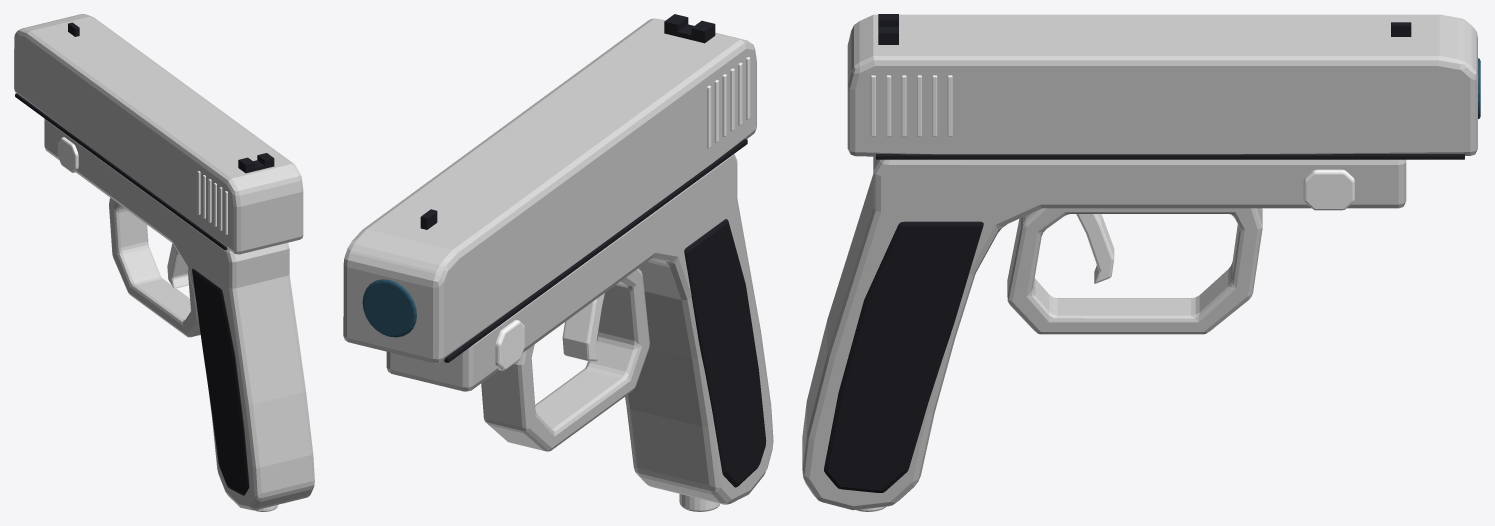
The model's file is funcon.glb.
The picture shows the model from 3 angles, left to right: view 1: azimuth 30°, elevation 25°; view 2: azimuth 150°, elevation 25°; view 3: azimuth 270°, elevation 25°; orthographic projection. The views are drawn at different scales.
Parts seen in each view (by area): view 1: barrel_shell_lod0, frame_lod0, grip_panel_left_lod0, trigger_guard_lod0, slide_seam_-1_lod0, trigger_lod0, button_a_cap_lod0, rear_sight_geometry_lod0; view 2: barrel_shell_lod0, frame_lod0, trigger_guard_lod0, grip_panel_left_lod0, muzzle_lens_lod0, slide_seam_-1_lod0, trigger_lod0, button_a_cap_lod0, rear_sight_geometry_lod0, cable_boss_lod0; view 3: barrel_shell_lod0, frame_lod0, hand_grip_lod0, trigger_guard_lod0, slide_seam_1_lod0, button_b_cap_lod0, trigger_lod0.
Part boxes in pixels (bbox=[...]): barrel_shell_lod0: bbox=[14, 14, 303, 254]; frame_lod0: bbox=[44, 118, 314, 510]; grip_panel_left_lod0: bbox=[192, 268, 249, 495]; trigger_guard_lod0: bbox=[109, 197, 200, 337]; slide_seam_-1_lod0: bbox=[15, 93, 227, 249]; trigger_lod0: bbox=[167, 243, 188, 288]; button_a_cap_lod0: bbox=[58, 137, 78, 172]; rear_sight_geometry_lod0: bbox=[238, 153, 274, 173]; barrel_shell_lod0: bbox=[343, 18, 756, 363]; frame_lod0: bbox=[386, 154, 773, 504]; trigger_guard_lod0: bbox=[481, 268, 649, 451]; grip_panel_left_lod0: bbox=[684, 219, 766, 487]; muzzle_lens_lod0: bbox=[362, 279, 416, 337]; slide_seam_-1_lod0: bbox=[444, 139, 747, 362]; trigger_lod0: bbox=[562, 293, 604, 361]; button_a_cap_lod0: bbox=[495, 320, 524, 370]; rear_sight_geometry_lod0: bbox=[664, 14, 715, 43]; cable_boss_lod0: bbox=[679, 494, 719, 511]; barrel_shell_lod0: bbox=[847, 14, 1477, 156]; frame_lod0: bbox=[802, 156, 1406, 510]; hand_grip_lod0: bbox=[824, 221, 983, 492]; trigger_guard_lod0: bbox=[1007, 208, 1262, 334]; slide_seam_1_lod0: bbox=[876, 154, 1464, 159]; button_b_cap_lod0: bbox=[1303, 169, 1354, 210]; trigger_lod0: bbox=[1076, 214, 1114, 283].
Size of what is drawn, in the model's own units: 0.046 by 0.207 by 0.2647.
